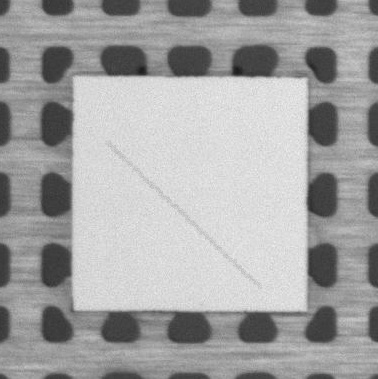DIE_CRACK: (108, 143, 258, 287)
